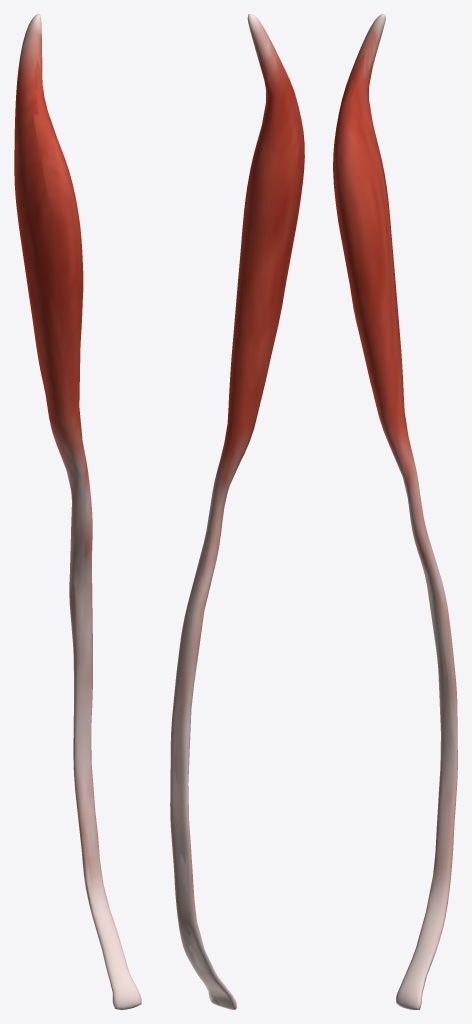
Rendered from R Common Digital Extensor.fbx.
3 views of the same model, side by side, from view 1: azimuth 30°, elevation 25°; view 2: azimuth 150°, elevation 25°; view 3: azimuth 330°, elevation 25° (orthographic). The views are drawn at different scales.
Parts seen in each view (by area): view 1: R Common Digital Extensor, R Common Digital Extensor low; view 2: R Common Digital Extensor, R Common Digital Extensor low; view 3: R Common Digital Extensor, R Common Digital Extensor low.
Boxes of the visible parts, x1,y1,x2,y2 form: R Common Digital Extensor: (14,14,141,1009); R Common Digital Extensor low: (15,16,136,1008); R Common Digital Extensor: (170,14,304,1009); R Common Digital Extensor low: (170,16,303,1009); R Common Digital Extensor: (333,14,457,1009); R Common Digital Extensor low: (333,27,457,1009).
Size of the model in its own units: 9.42 by 85.82 by 7.51.
